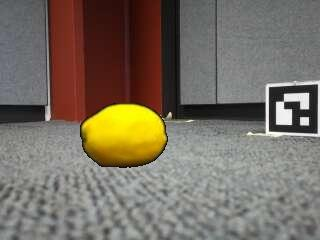lemon: (81, 104, 166, 166)
